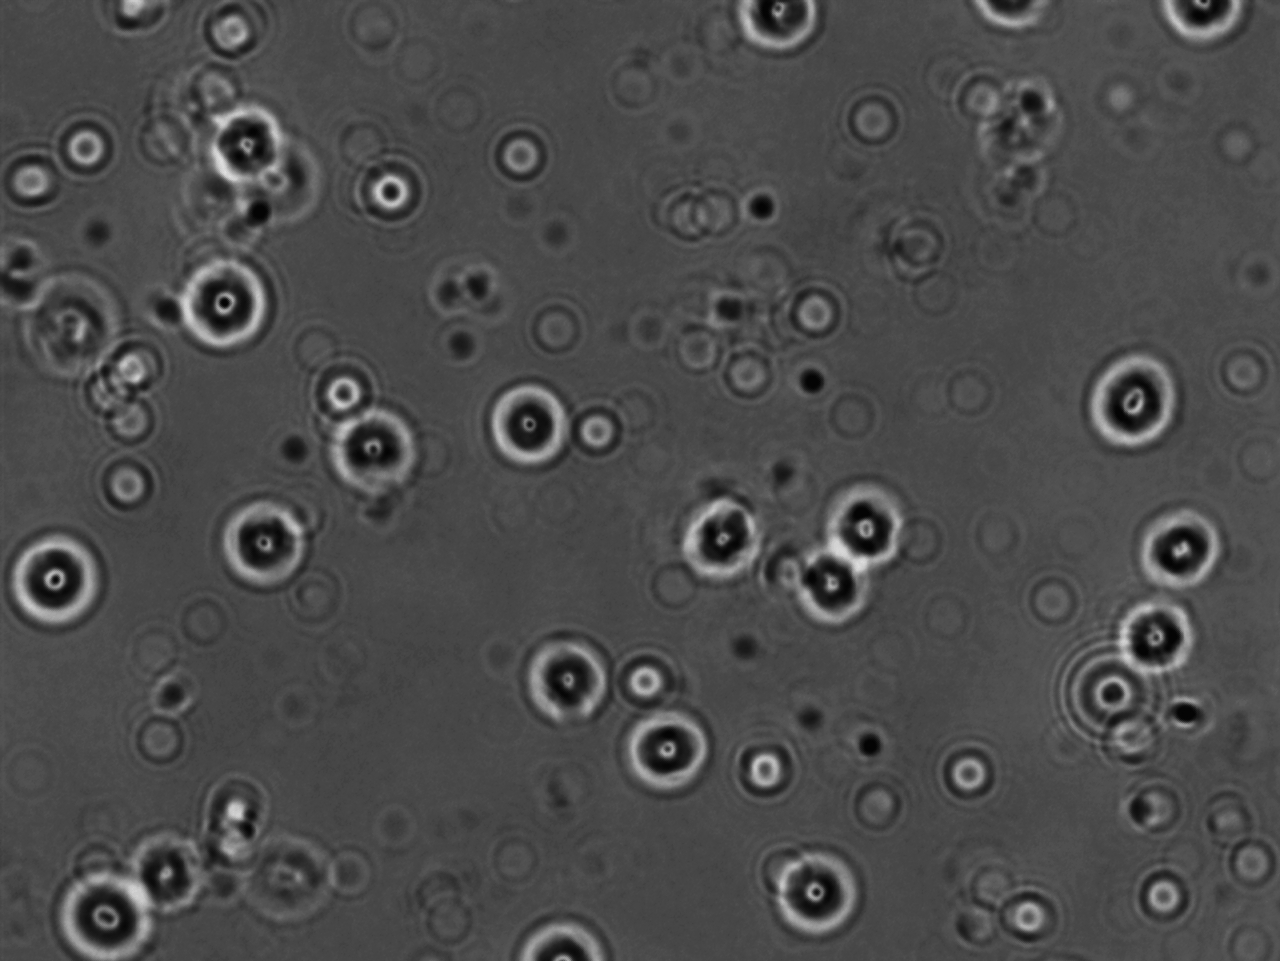depth:-8: (1075, 344, 1195, 458), (169, 250, 285, 359), (41, 866, 178, 958), (811, 465, 920, 578), (512, 626, 628, 732), (325, 395, 434, 504), (466, 365, 581, 468), (211, 488, 321, 595), (1126, 496, 1235, 599), (667, 489, 769, 595), (195, 95, 302, 193), (618, 704, 723, 803), (769, 838, 871, 939), (1109, 585, 1207, 683), (785, 535, 880, 628), (502, 906, 629, 961)
